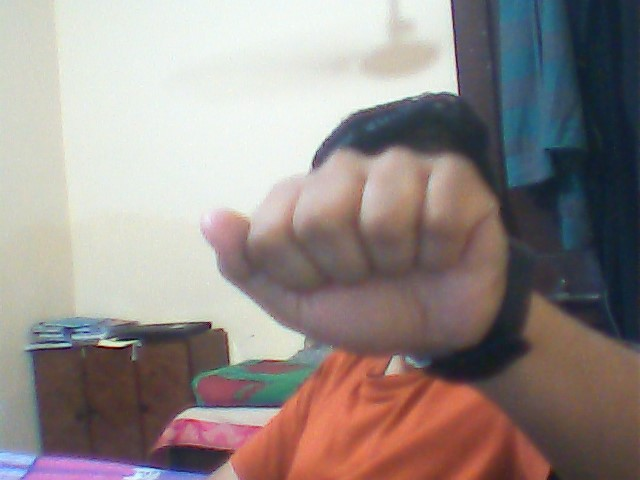Yes: (193, 155, 521, 366)
